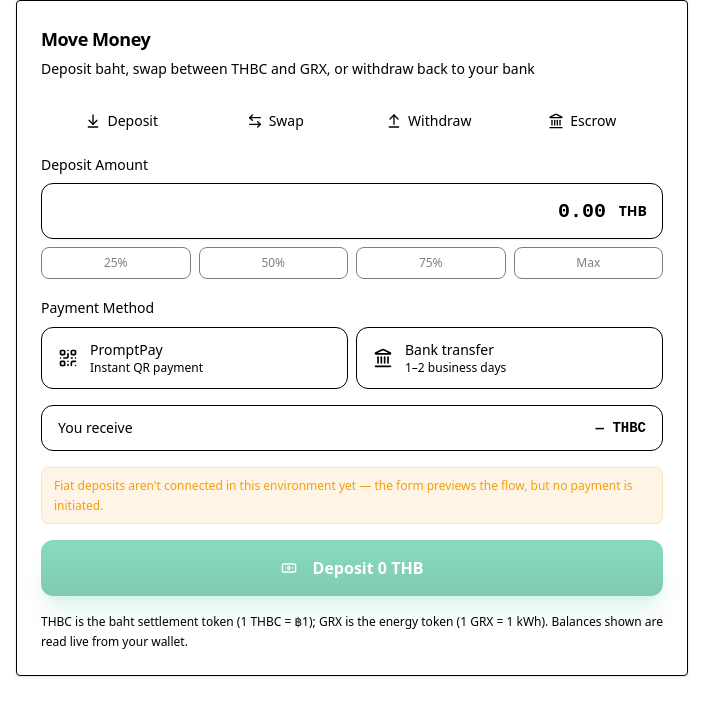
Test: WalletActions › shows the settlement tx hash once the swap settles
The image size is (705, 701).
Press the mouse on the tab with test id "swap-tab" at [275, 121], box [198, 107, 352, 135]
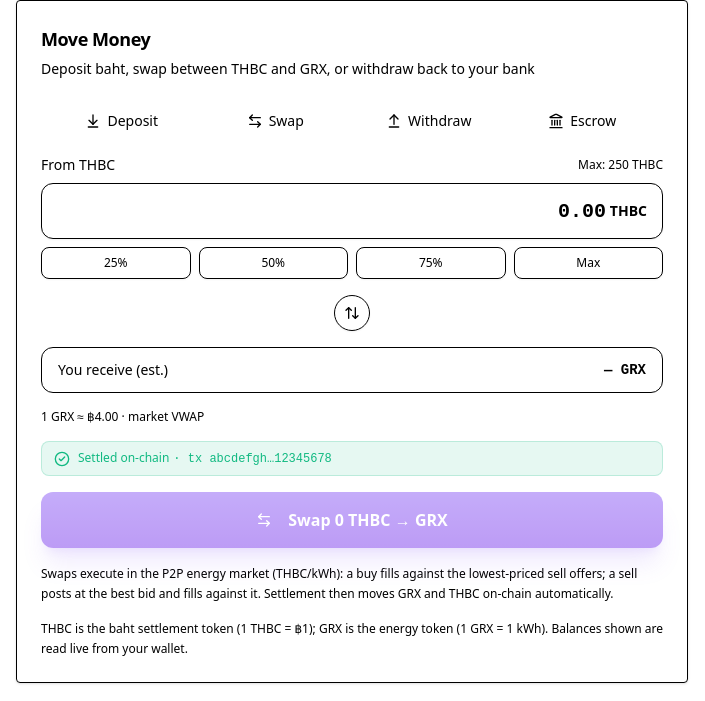
expect the element with test id "swap-progress" shows "Settled on-chain": met, box [78, 449, 169, 466]
expect the element with test id "swap-progress" shows "abcdefgh…12345678": met, box [209, 452, 332, 466]
